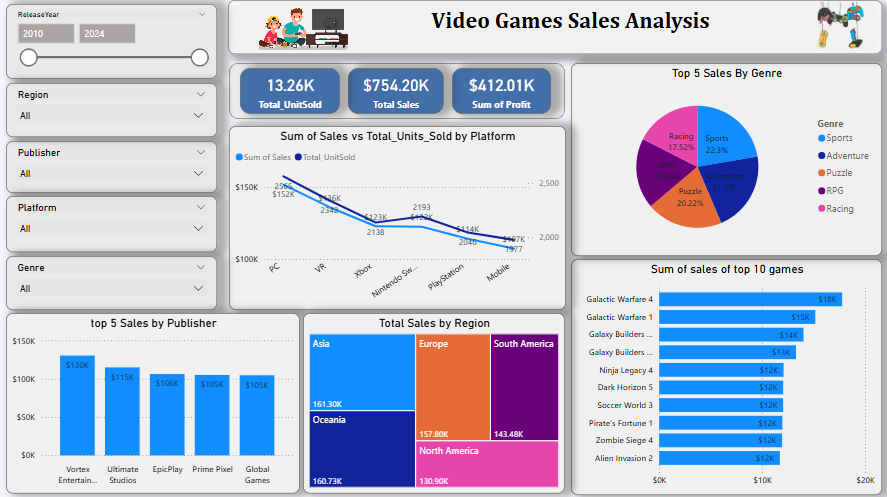

What the dashboard file says about the page in this screenshot:
{"tool":"powerbi","page":{"name":"DashBoard","canvas":[1280,720],"ordinal":0},"visuals":[{"type":"shape","box":[330.9,95.7,483.8,80.6],"z":0},{"type":"clusteredBarChart","title":"Sum of sales of top 10 games","fields":{"Category":["games games_sales.GameName"],"Y":["Sum(games games_sales.Sales)"]},"box":[823.1,376.9,447.7,340],"z":1000},{"type":"pieChart","title":"Top 5 Sales By Genre","fields":{"Y":["Sum(games games_sales.Sales)"],"Category":["games games_sales.Genre"]},"box":[823.7,95,447.8,277.9],"z":2000},{"type":"shape","box":[330,5,941.7,78.3],"z":4000},{"type":"image","box":[1164.7,0,93.5,79.1],"z":5000},{"type":"textbox","box":[553,18.7,540,63.4],"z":6000},{"type":"card","title":"ToTal Sales","fields":{"Values":["games games_sales.Total Sales"]},"box":[502.3,102.5,137.7,65.5],"z":7000},{"type":"slicer","fields":{"Values":["games games_sales.ReleaseYear"]},"box":[10.1,10.1,303.8,108],"z":8000},{"type":"slicer","fields":{"Values":["games games_sales.Publisher"]},"box":[10.1,207.4,303.8,74.9],"z":9000},{"type":"slicer","fields":{"Values":["games games_sales.Platform"]},"box":[10.1,286.6,303.8,80.6],"z":10000},{"type":"slicer","fields":{"Values":["games games_sales.Region"]},"box":[10.1,123.8,303.8,77.8],"z":11000},{"type":"lineChart","title":"Sum of Sales vs Total_Units_Sold by Platform","fields":{"Y":["Sum(games games_sales.Sales)"],"Y2":["games games_sales.Total_UnitSold"],"Category":["Game_Sales.Platform"]},"box":[330.8,186.2,484.6,264.6],"z":12000},{"type":"slicer","fields":{"Values":["Game_Sales.Genre"]},"box":[10.1,373,303.8,77.8],"z":13000},{"type":"card","title":"ToTal Sales","fields":{"Values":["games games_sales.Total_UnitSold"]},"box":[347.7,102.5,144.5,65.5],"z":14000},{"type":"card","fields":{"Values":["Sum(games games_sales.Profit)"]},"box":[651.8,102.5,142.8,65.5],"z":15000},{"type":"columnChart","title":"top 5 Sales by Publisher","fields":{"Category":["games games_sales.Publisher"],"Y":["Sum(games games_sales.Sales)"]},"box":[10.8,455.4,423.1,260],"z":16000},{"type":"treemap","fields":{"Group":["Game_Sales.Region"],"Values":["Game_Sales.Total Sales"]},"box":[438.5,455.4,376.9,260],"z":17000},{"type":"image","box":[363.1,4.6,150.8,83.1],"z":18000}]}

Visuals, with their boxes in screenshot pixels (x1, y1, x2, y2), scaled from the page's 1280x720 canvas onto the 887x497 screenshot:
shape: 229, 66, 565, 122
"Sum of sales of top 10 games" clusteredBarChart: 570, 260, 881, 495
"Top 5 Sales By Genre" pieChart: 571, 66, 881, 257
shape: 229, 3, 881, 58
image: 807, 0, 872, 55
textbox: 383, 13, 757, 57
"ToTal Sales" card: 348, 71, 444, 116
slicer - games games_sales.ReleaseYear: 7, 7, 218, 82
slicer - games games_sales.Publisher: 7, 143, 218, 195
slicer - games games_sales.Platform: 7, 198, 218, 253
slicer - games games_sales.Region: 7, 85, 218, 139
"Sum of Sales vs Total_Units_Sold by Platform" lineChart: 229, 129, 565, 311
slicer - Game_Sales.Genre: 7, 257, 218, 311
"ToTal Sales" card: 241, 71, 341, 116
card - Sum(games games_sales.Profit): 452, 71, 551, 116
"top 5 Sales by Publisher" columnChart: 7, 314, 301, 494
treemap - Game_Sales.Region x Game_Sales.Total Sales: 304, 314, 565, 494
image: 252, 3, 356, 61
